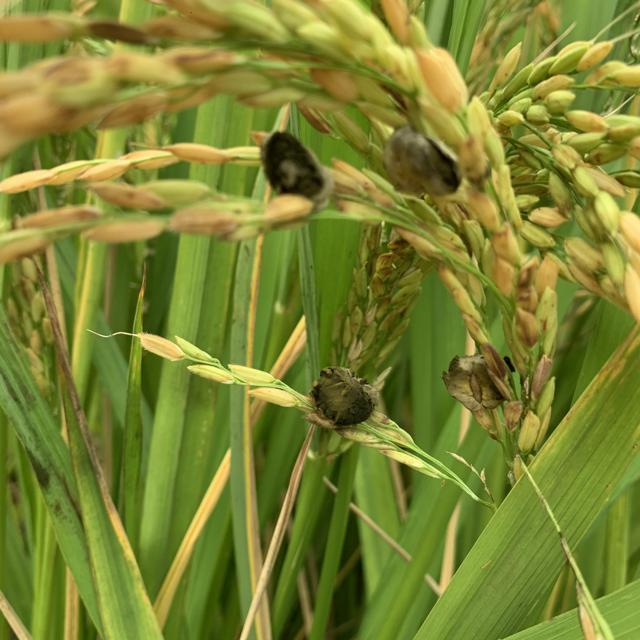Leaf_Scald: (380, 124, 464, 198), (260, 129, 330, 201), (442, 352, 514, 413), (310, 366, 378, 430)
